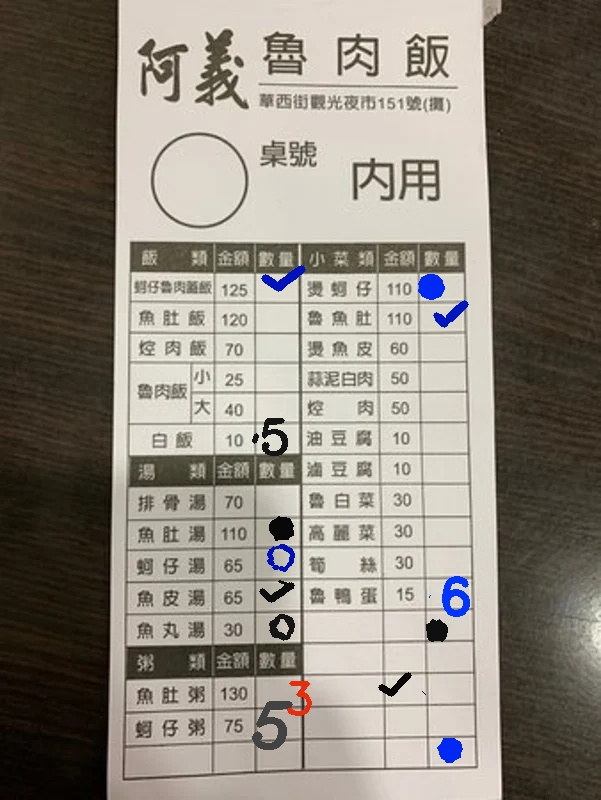marked_circle: (429, 612, 472, 640), (431, 734, 474, 762), (256, 518, 299, 546), (419, 274, 462, 302)
marked_hollow: (258, 613, 301, 641), (258, 550, 301, 578)
marked_number_3: (256, 678, 299, 706)
marked_number_5: (256, 422, 299, 450), (256, 709, 299, 737)
marked_number_6: (429, 579, 472, 607)
marked_tick: (256, 273, 299, 301), (421, 301, 464, 329), (382, 674, 425, 702), (258, 581, 301, 609)
